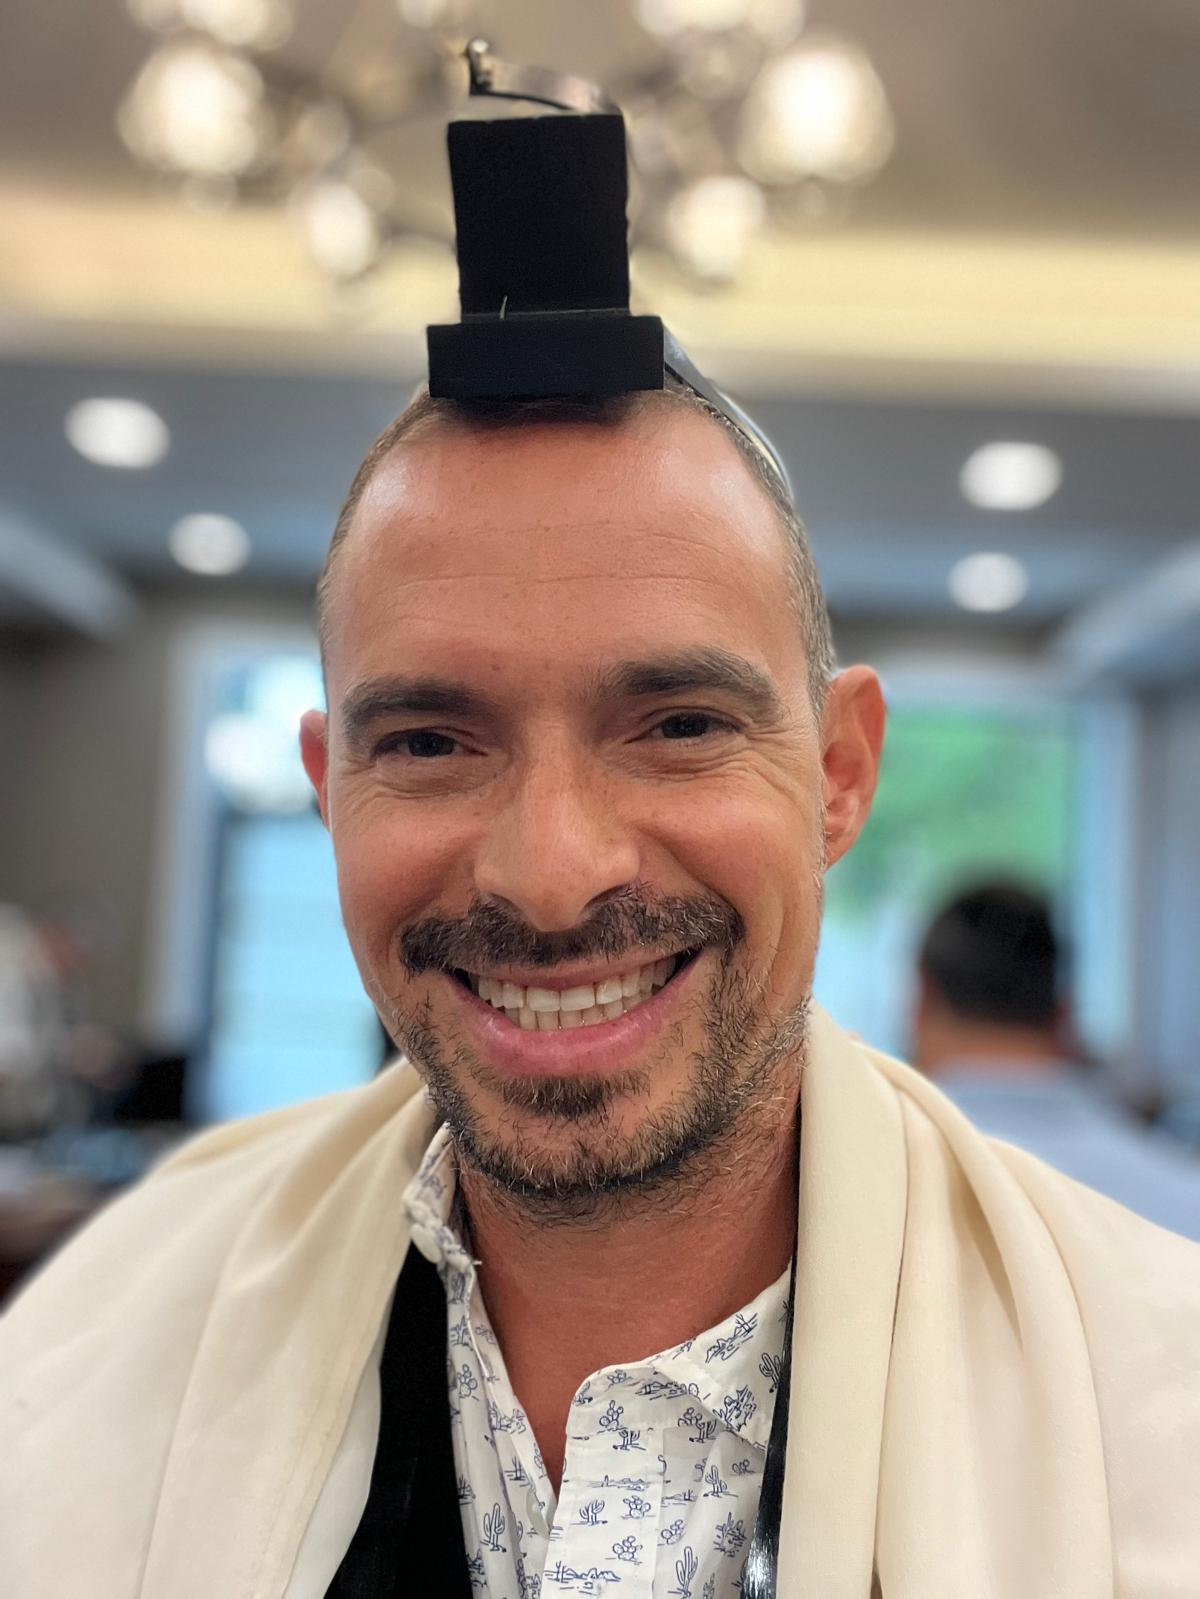tefillin: (425, 107, 668, 389)
